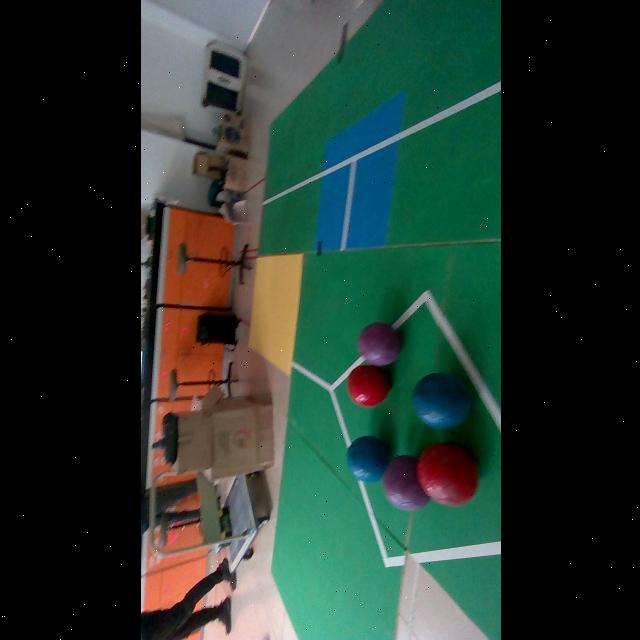B: (412, 372, 472, 429), (346, 436, 389, 482)
P: (381, 455, 429, 511), (356, 322, 400, 366)
R: (416, 442, 476, 506), (345, 365, 389, 408)
